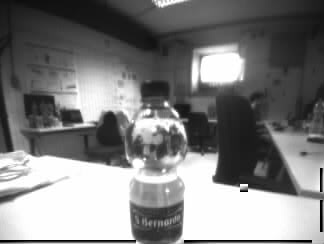Bottle: (123, 78, 189, 244)
